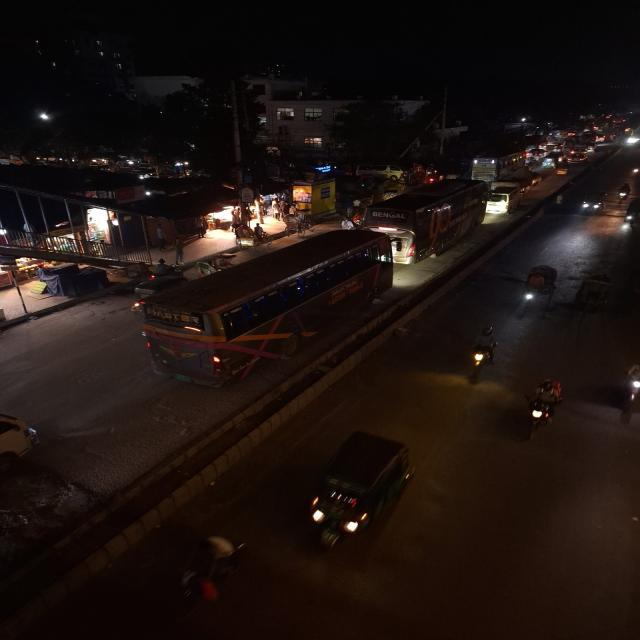bus: (131, 227, 398, 389), (355, 178, 488, 264), (471, 152, 522, 181)
car: (486, 184, 526, 216), (566, 152, 589, 164)
cng: (290, 430, 424, 556), (576, 191, 609, 219), (554, 162, 570, 176)
motorcycle: (523, 376, 567, 439), (466, 323, 501, 381), (620, 354, 640, 425), (616, 182, 634, 202)
rickshaw: (500, 262, 562, 318), (568, 270, 616, 324), (232, 224, 256, 248)
